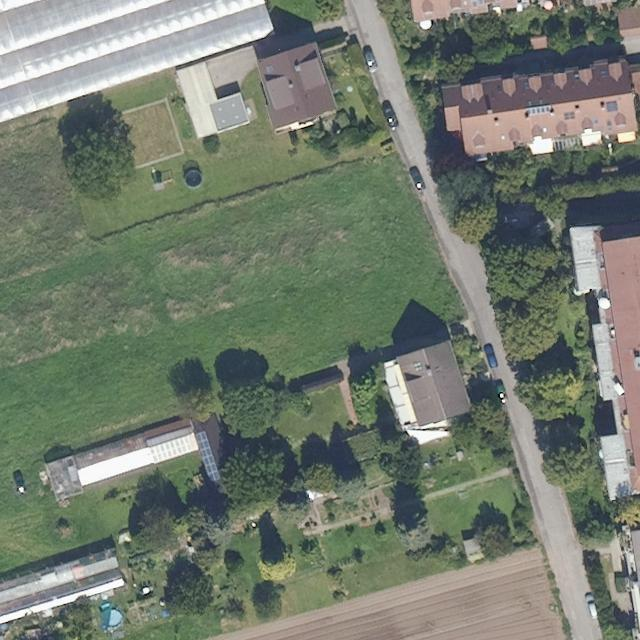PV: (149, 434, 198, 463), (196, 431, 221, 482), (528, 105, 550, 115)
